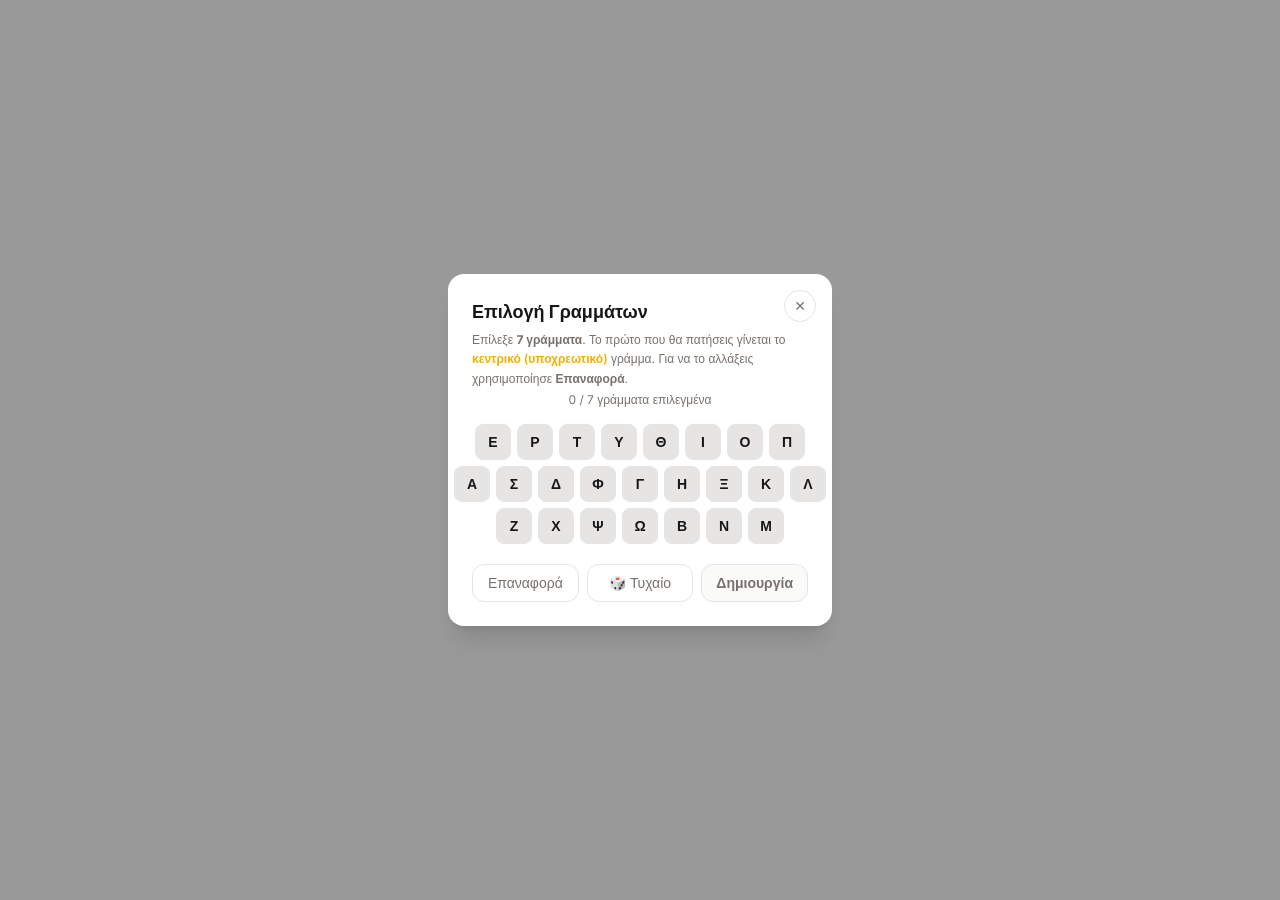
LetterPickerModal — Random › Random fills all 7 slots
This screenshot has width=1280, height=900.
Click the button with test id "letter-picker-random" at (640,583), box [587, 564, 693, 602]
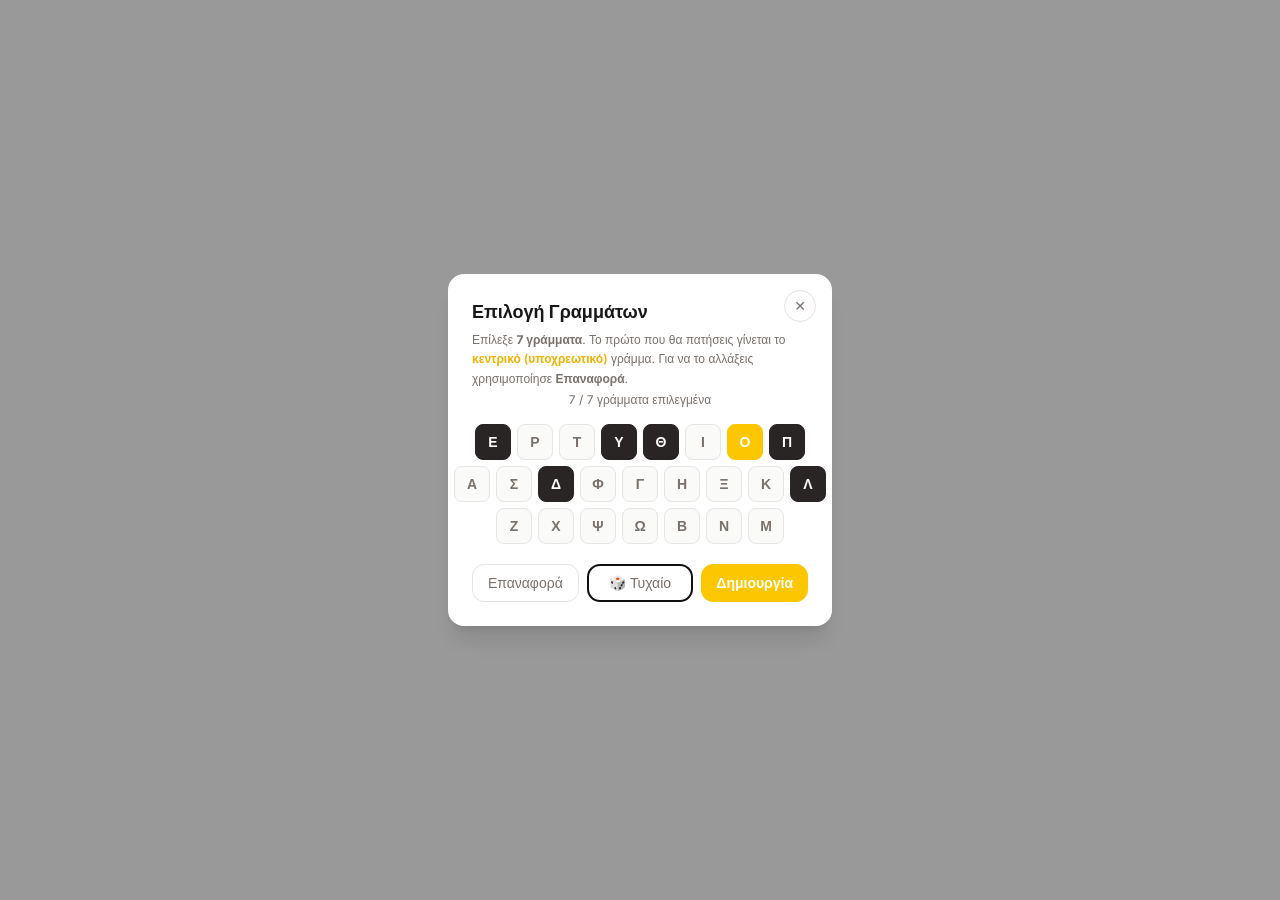
Check: the text with test id "letter-picker-count" shows "7 / 7", box [569, 392, 711, 407]
